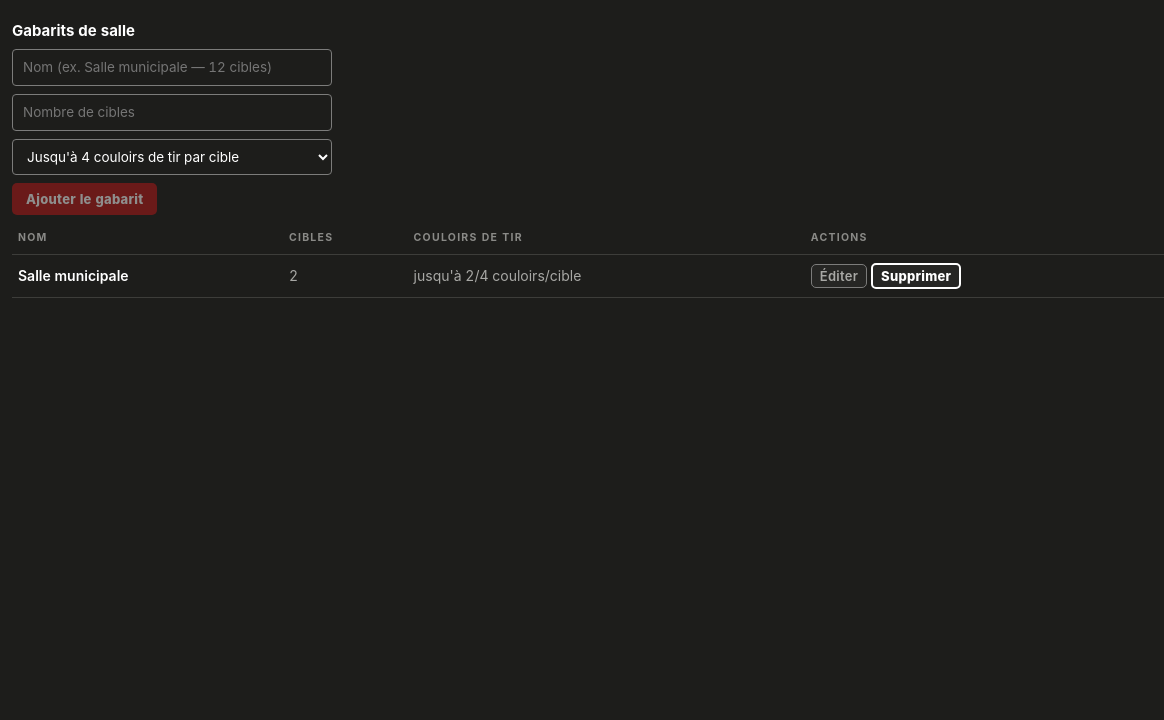
Test case: Gabarits — tableau › « Éditer » remplace la ligne par le formulaire pré-rempli
Click the button with aria-label "Éditer Salle municipale" at point(839, 276), box x1=811 y1=264 x2=867 y2=288
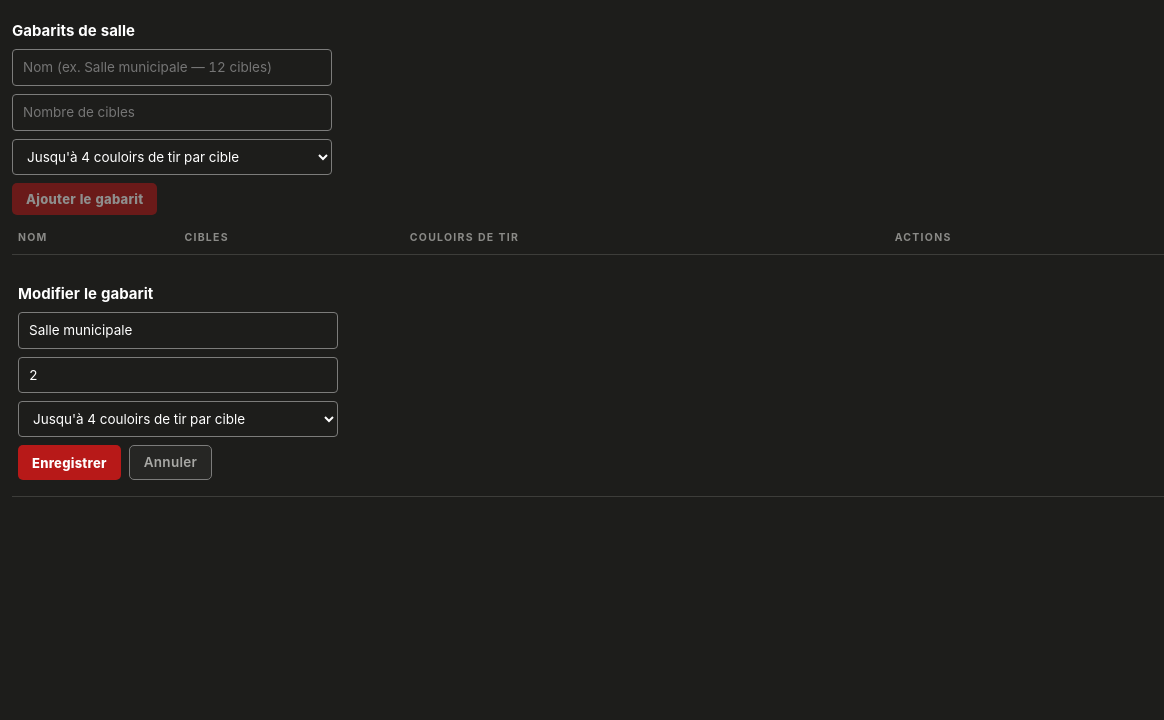
expect the field named "Nom du gabarit" holds "Salle municipale": met, box x1=18 y1=312 x2=338 y2=349
expect the number field named "Nombre de cibles" holds "2": met, box x1=18 y1=356 x2=338 y2=393
